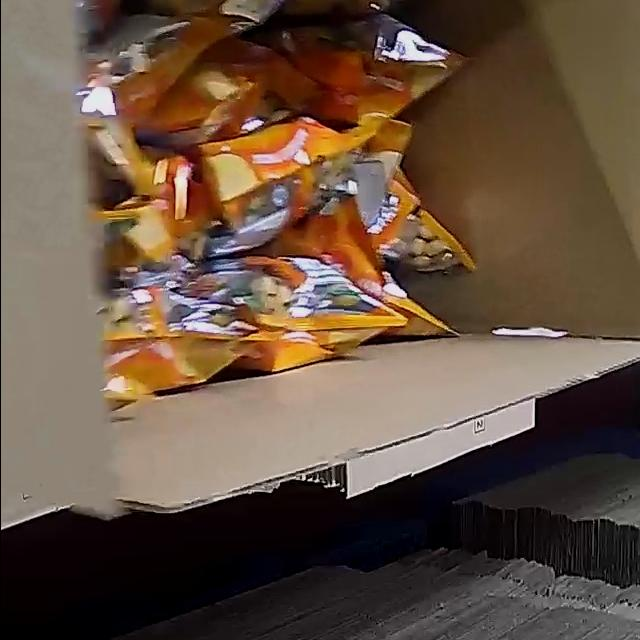cheese: (75, 0, 480, 406)
